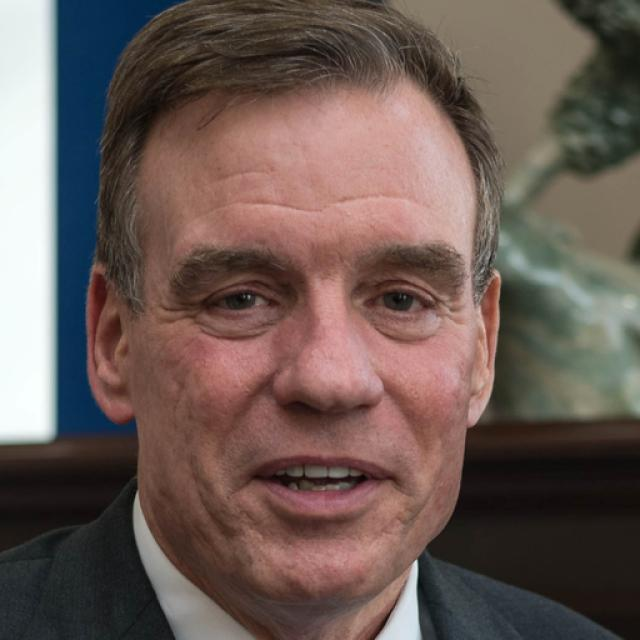0_rostro_limpio: (90, 0, 500, 601)
